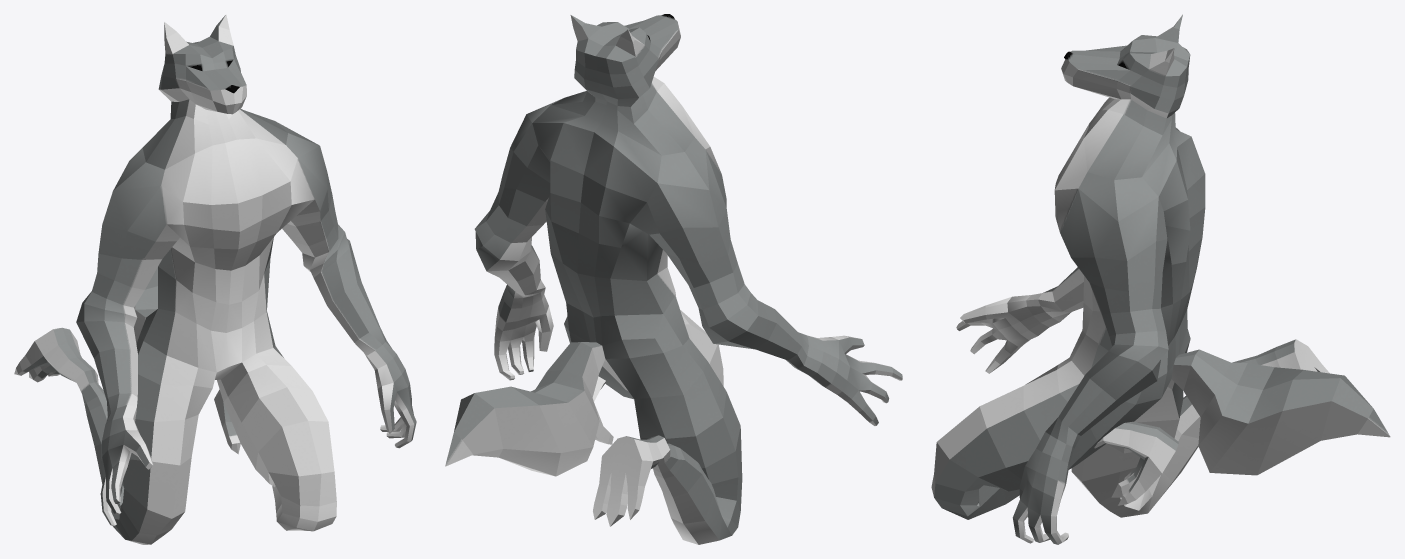
File: WolfDead(32).obj
3 renders of one model, left to right at view 1: azimuth 30°, elevation 25°; view 2: azimuth 150°, elevation 25°; view 3: azimuth 270°, elevation 25°, orthographic. The views are drawn at different scales.
Parts seen in each view (by area): view 1: Box001; view 2: Box001; view 3: Box001.
Part boxes in pixels (left/top/right/bottom): Box001: left=14, top=14, right=416, bottom=544; Box001: left=445, top=14, right=902, bottom=544; Box001: left=931, top=14, right=1390, bottom=544.
Bounding box in the file's own units: 86.36 × 119 × 93.97.
